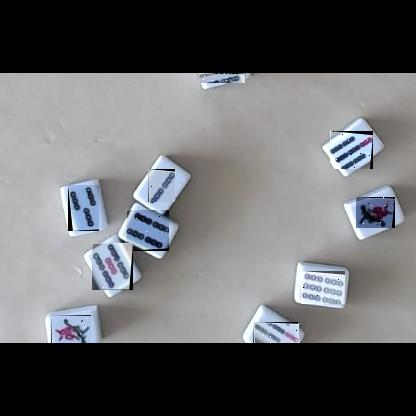1s: (356, 197, 395, 228), (51, 315, 91, 343)
2s: (148, 169, 175, 202)
3s: (68, 185, 99, 231)
4s: (126, 210, 169, 251)
5s: (92, 243, 133, 290)
6s: (301, 271, 345, 304)
7s: (330, 131, 373, 169), (253, 322, 299, 343)
8s: (199, 73, 246, 83)
